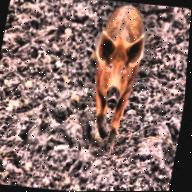boar: (75, 2, 152, 153)
